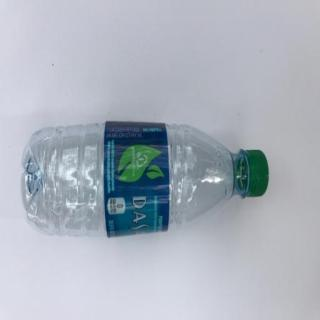Plastic-bottle: (20, 118, 272, 242)
